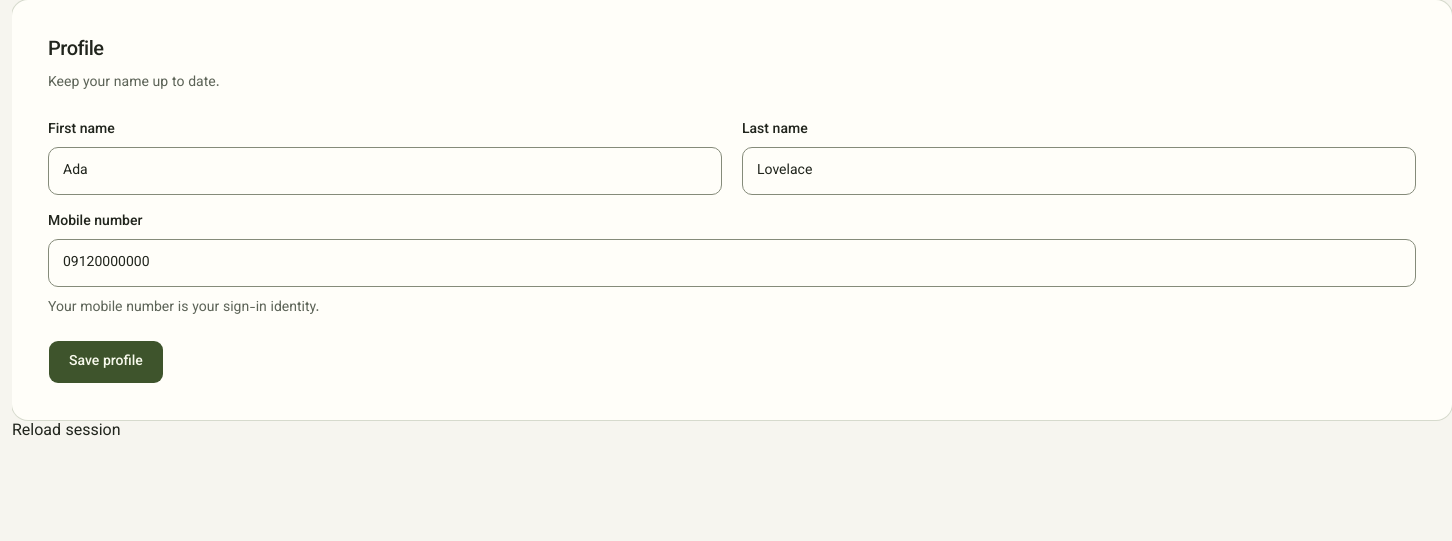
Test: profile form ownership › retains entered values after failure and prevents duplicate writes while pending
Replace the text in the field labelled "First name" with "Unchanged draft" at x=385, y=171, box [48,147,722,195]
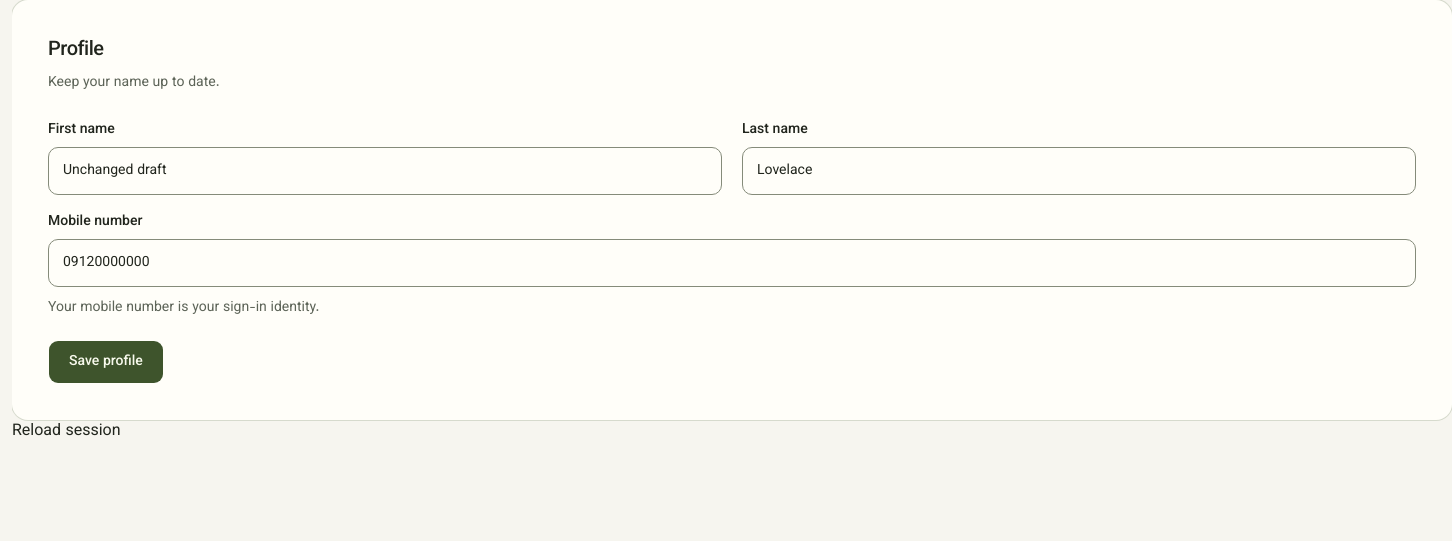
Click the button "Save profile" at x=106, y=362, box [48,340,164,384]
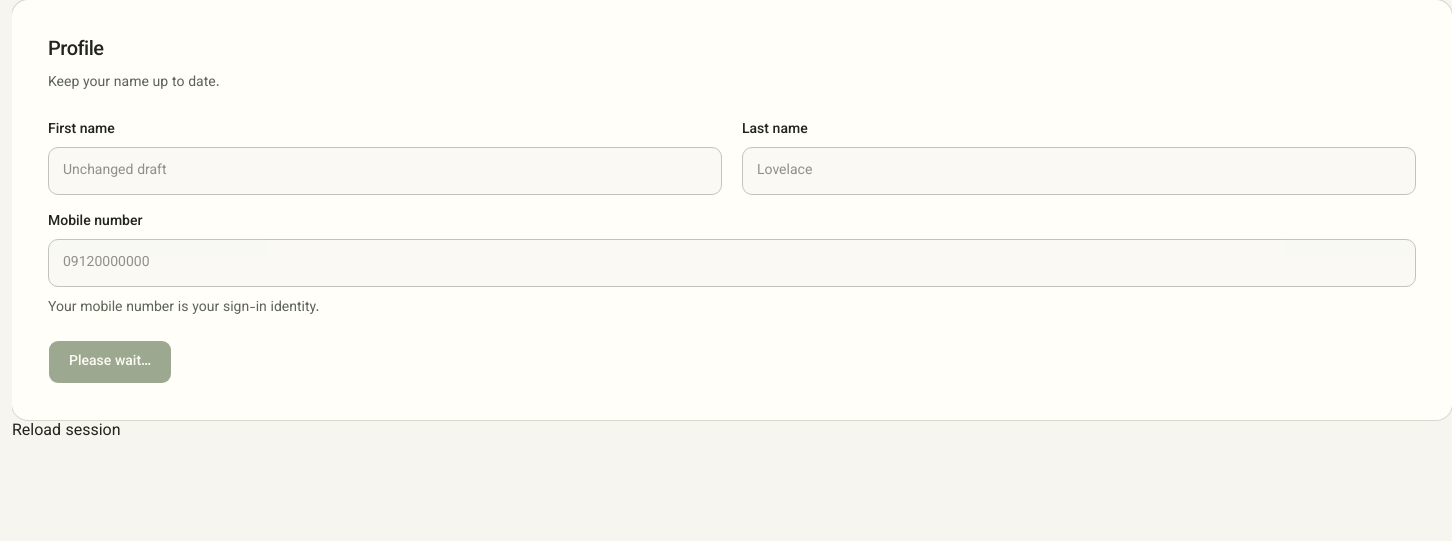
Click the button named "Save profile" at x=110, y=362, box [48,340,172,384]
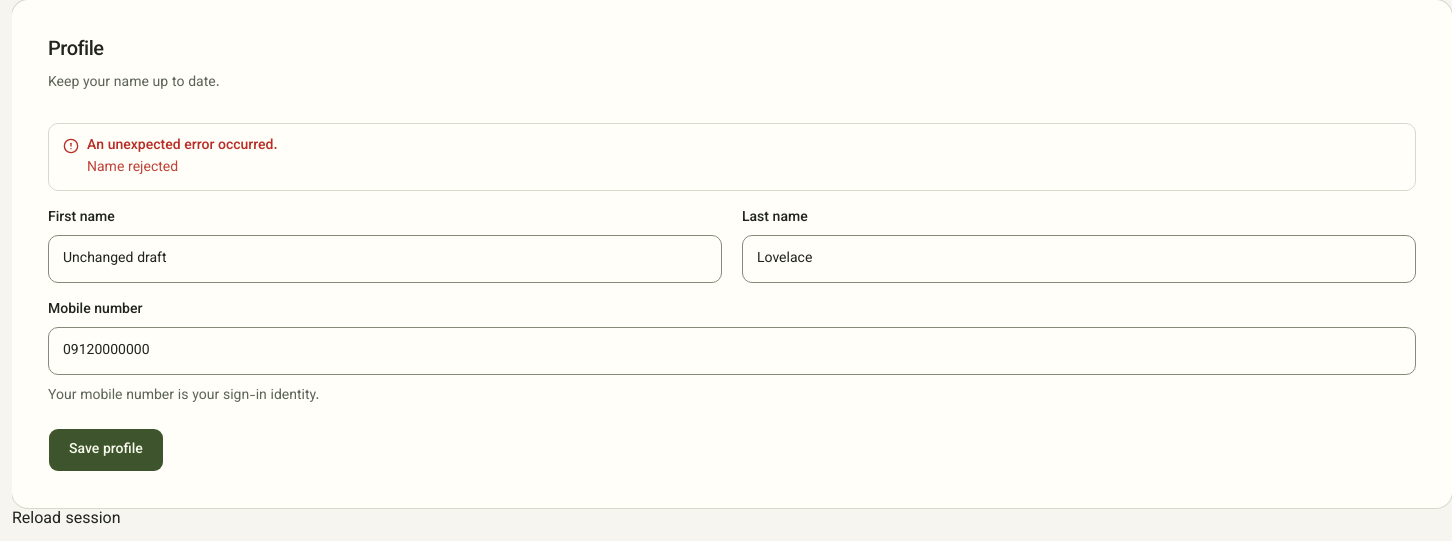
Expected: the field labelled "First name" is enabled, [48,235,722,283]
Now the message shows "Name rejected", box [87,157,178,179]
